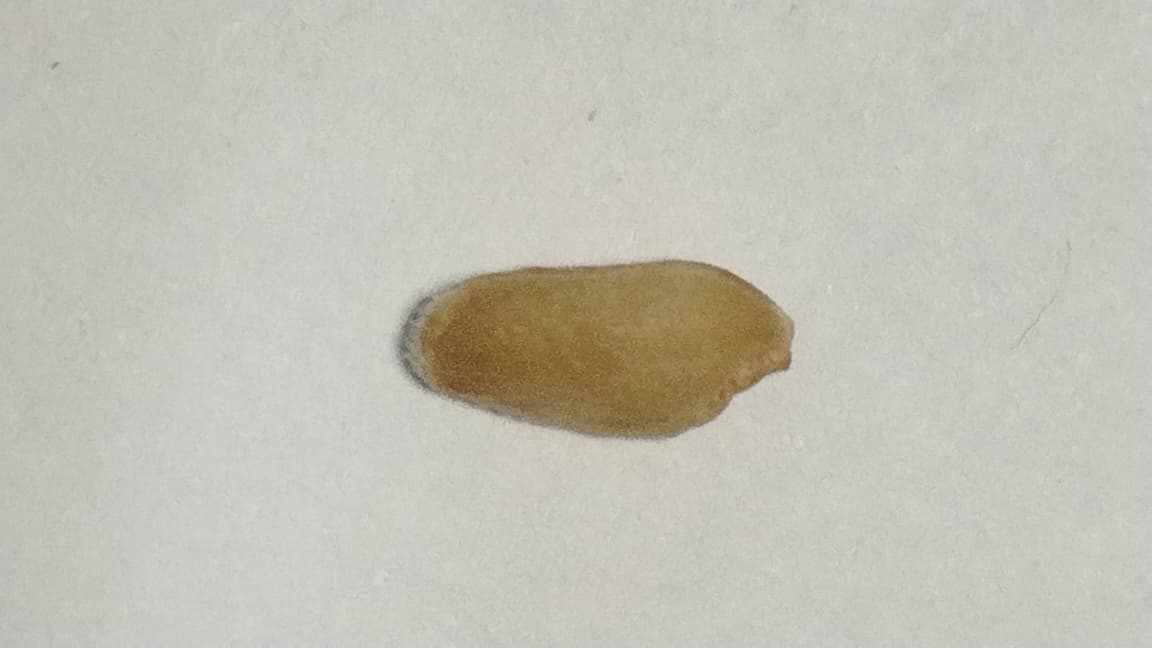healthy: (407, 261, 791, 435)
